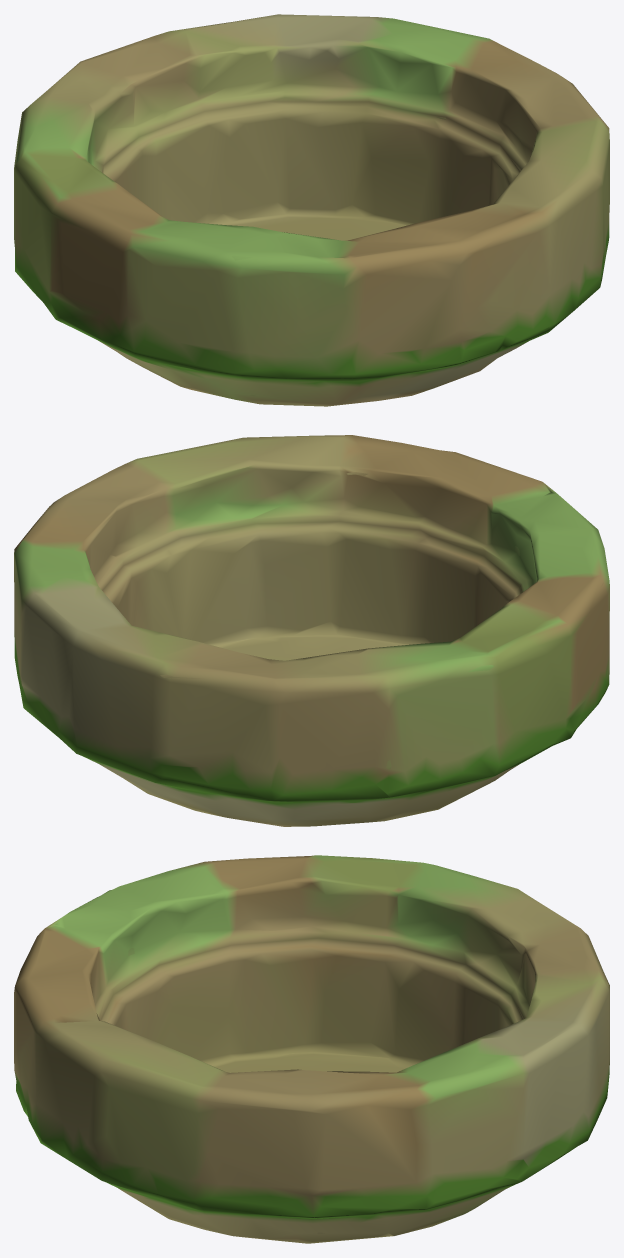
Rendered from gen3d-oasis-well-lod0.glb.
The picture shows the model from 3 angles, top to bottom: view 1: azimuth 30°, elevation 25°; view 2: azimuth 150°, elevation 25°; view 3: azimuth 270°, elevation 25°; orthographic projection.
Visible parts, largest first — view 1: part_0; view 2: part_0; view 3: part_0.
Boxes of the visible parts, <box> form: part_0: <box>14,14,609,406</box>; part_0: <box>14,435,609,826</box>; part_0: <box>14,855,609,1243</box>.
Bounding box in the file's own units: 2.93 × 1 × 2.93.
